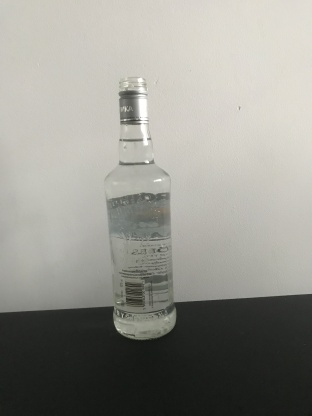nakretka: (117, 73, 150, 126)
